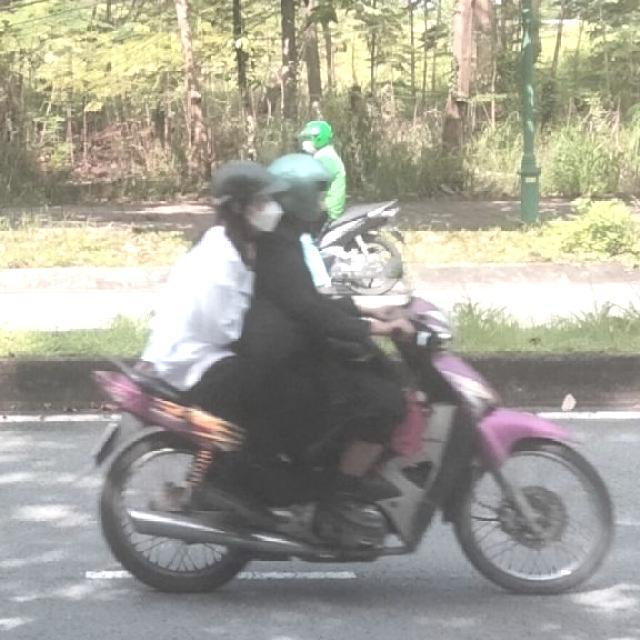Helmet: (214, 160, 282, 240), (267, 152, 329, 228), (296, 119, 334, 152)
